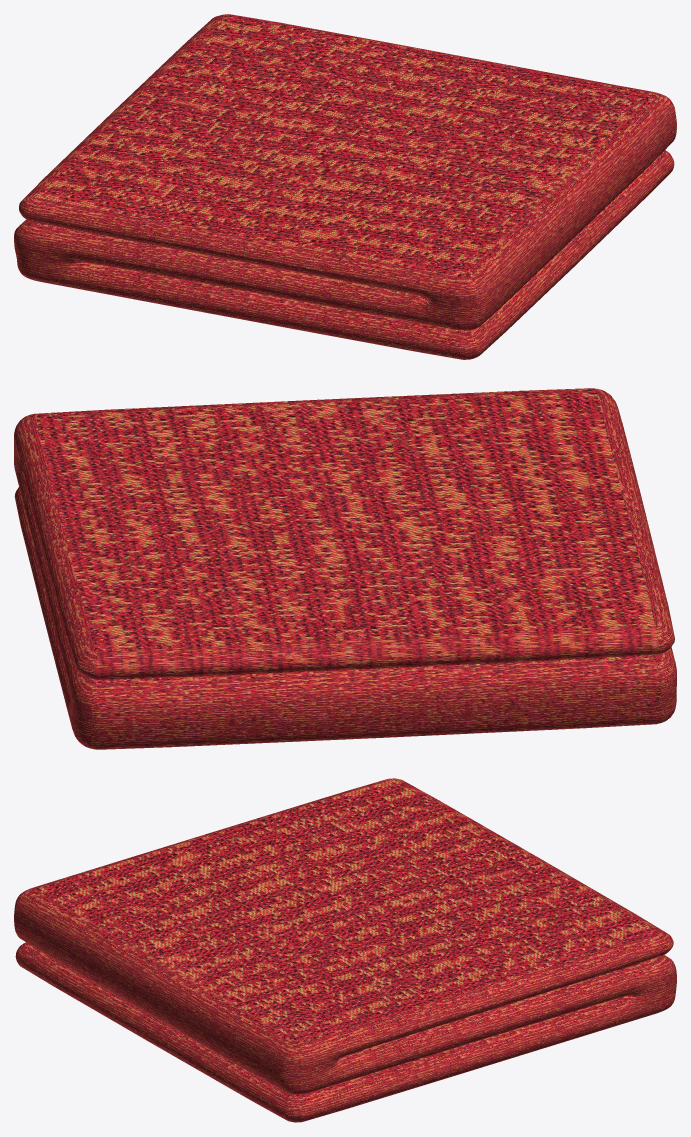
Rendered from sweater3.fbx.
3 views of the same model, one above another, from view 1: azimuth 30°, elevation 25°; view 2: azimuth 150°, elevation 25°; view 3: azimuth 270°, elevation 25° (orthographic). The views are drawn at different scales.
Visible parts, largest first — view 1: pCube54; view 2: pCube54; view 3: pCube54.
Boxes of the visible parts, x1,y1,x2,y2 form: pCube54: (14, 14, 676, 359); pCube54: (14, 388, 676, 749); pCube54: (14, 778, 676, 1122).
Size of the model in its own units: 0.0136 by 0.00186 by 0.0136.
Materials: 1 (1 with a texture image).
